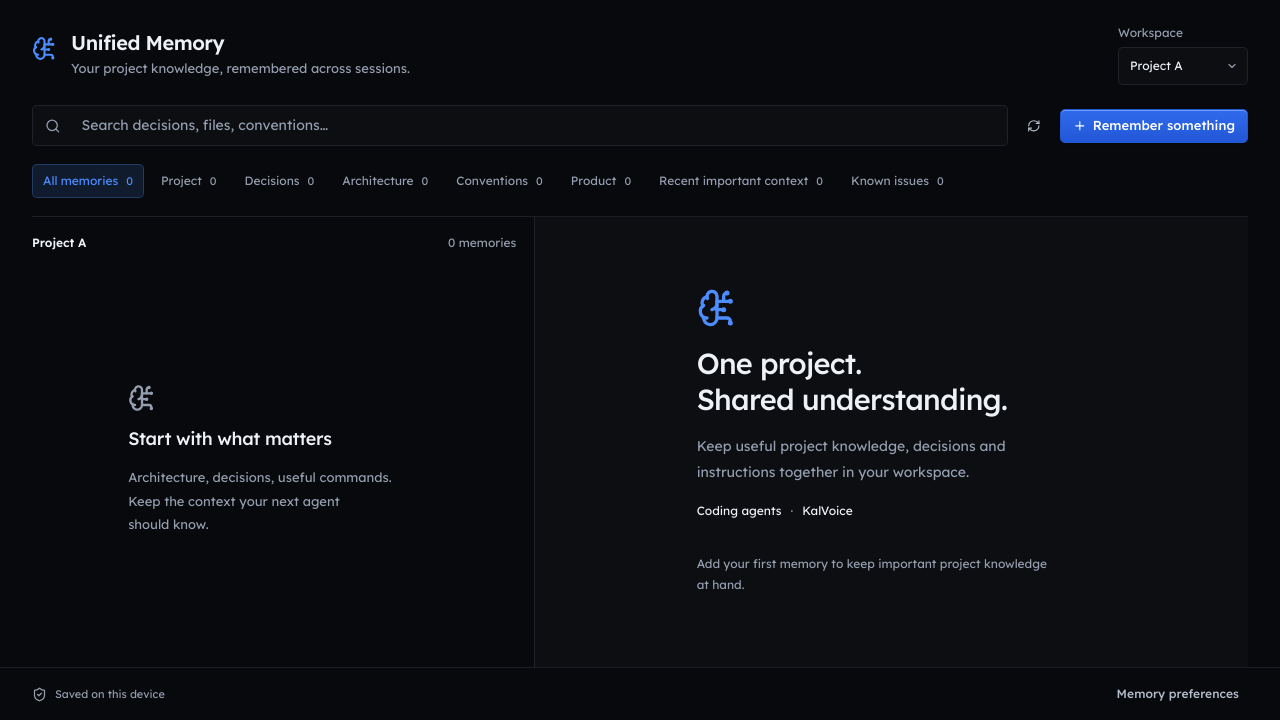
Test: Unified Memory › searches the native index and ignores an older search reply
Expected: the heading "Start with what matters" is shown, [128, 429, 332, 449]
Type "old" into the field named "Search project memory" at [539, 126], box [71, 106, 1007, 145]
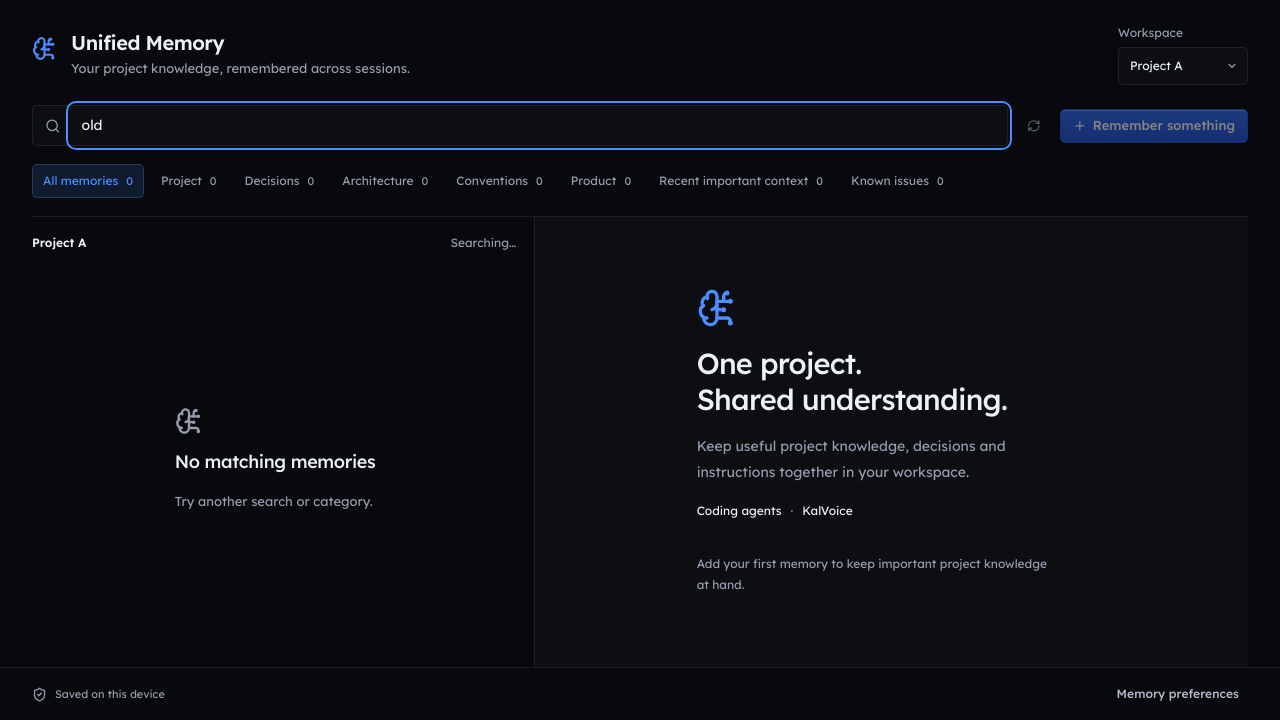
Replace the text in the field named "Search project memory" with "release" at [539, 126], box [71, 106, 1007, 145]
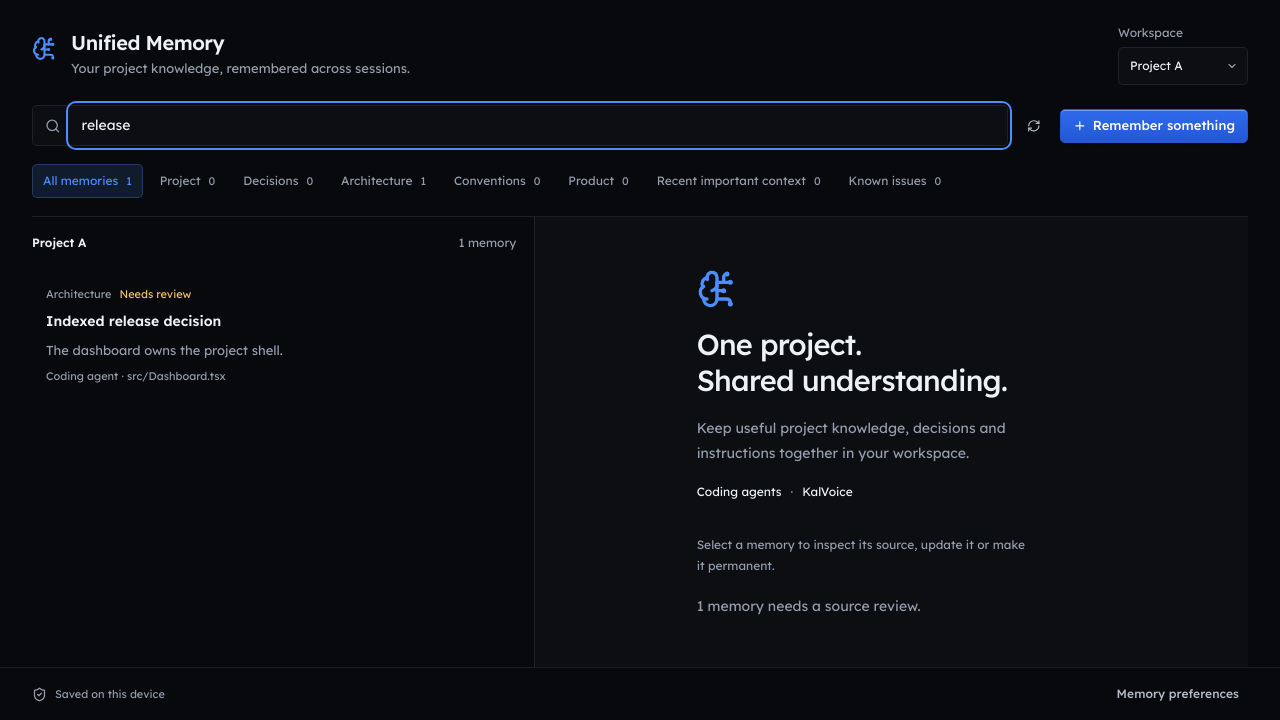
Expected: the text "Indexed release decision" is shown, [46, 310, 221, 332]
